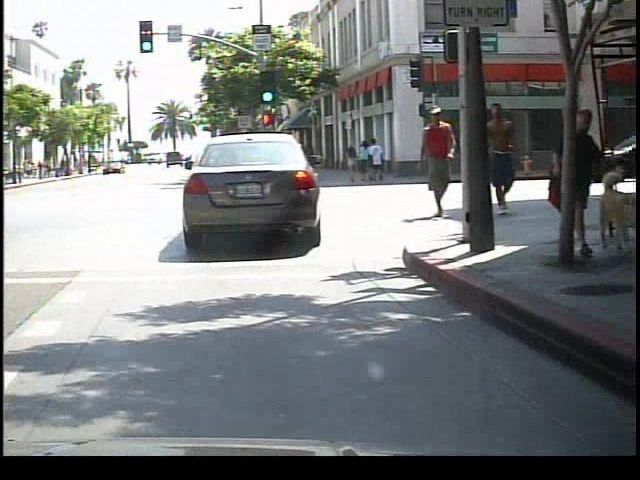person: (412, 100, 457, 223), (482, 97, 525, 222)
